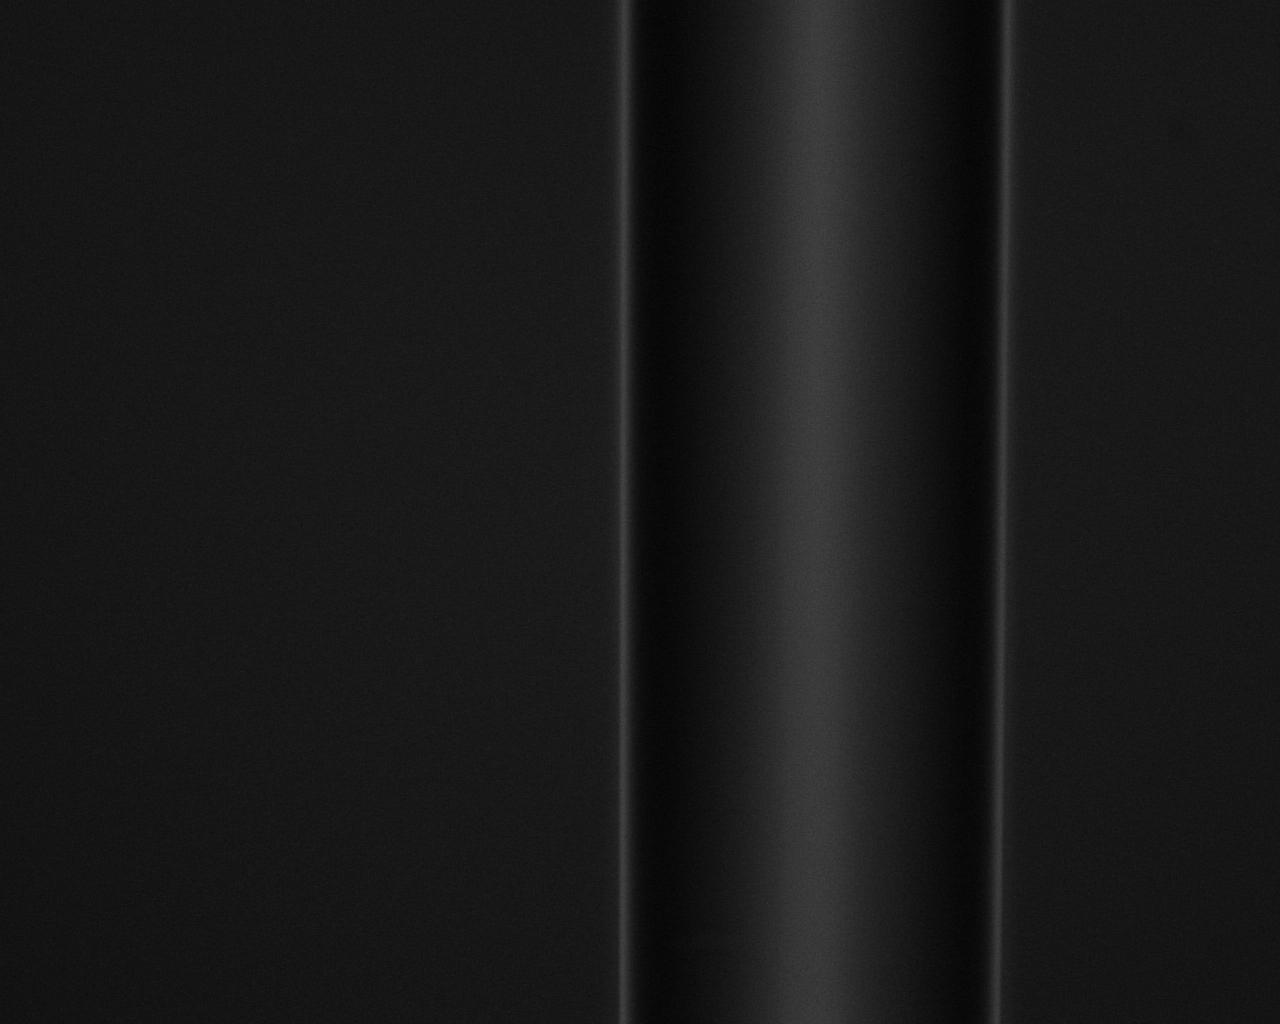fiber: (617, 0, 1012, 1024)
